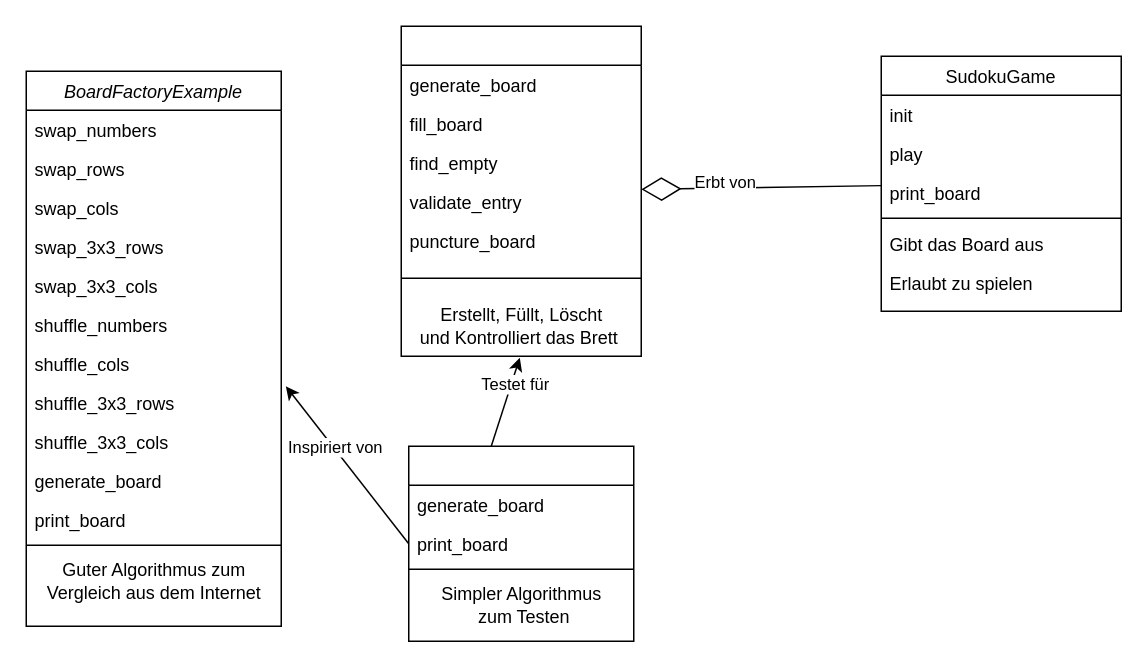
Some shapes in this 1148 by 668 pixel diagram are drawn without their labels. Here are the shapes that lost their labels. From the top down, the box of each, then its label:
(400, 25, 641, 356): SudokuBoard
(407, 445, 634, 641): BoardFactorySimple
